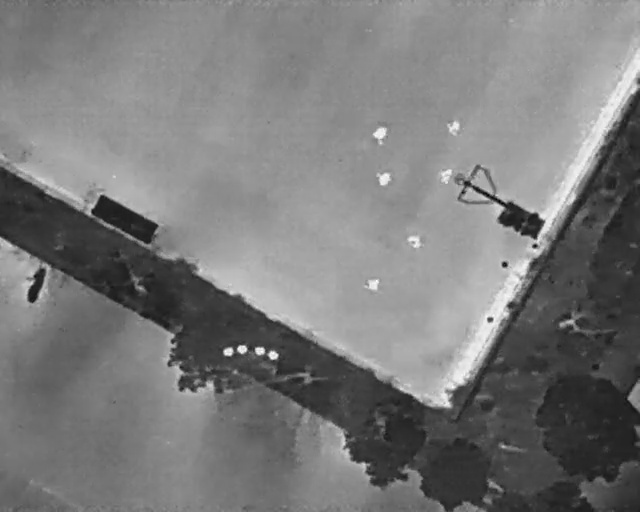Bicycle: (19, 262, 50, 307)
Person: (373, 168, 393, 188), (445, 116, 460, 138), (437, 167, 454, 186), (406, 231, 423, 250), (363, 275, 380, 294), (373, 125, 388, 145)
